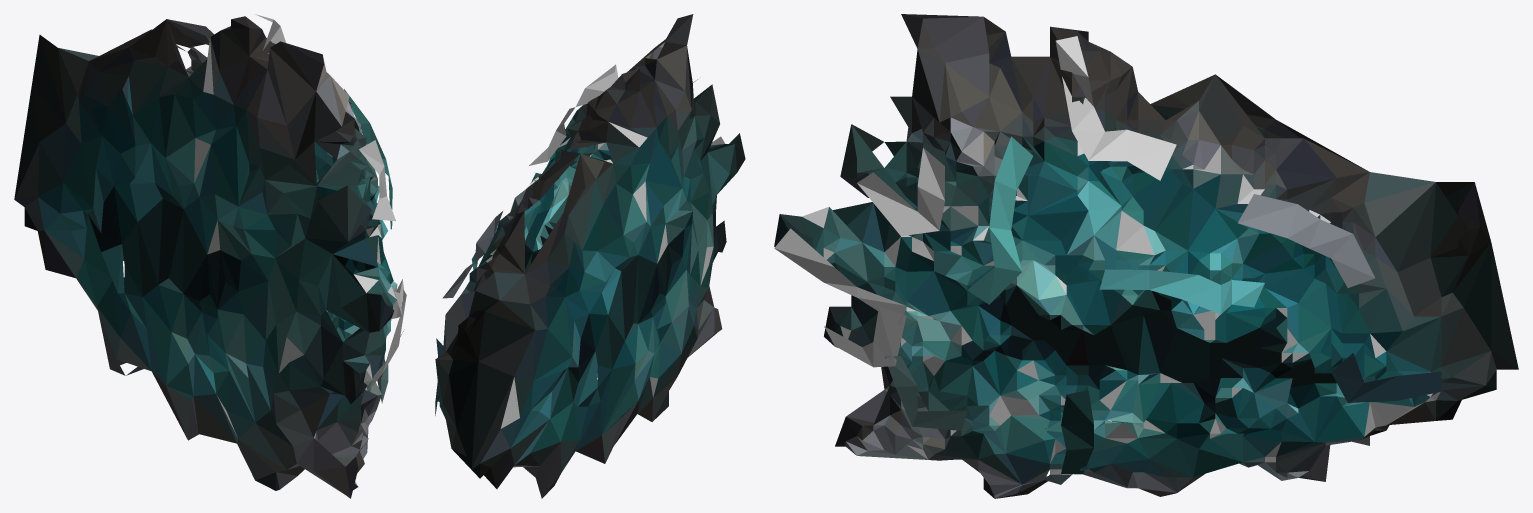
Rendered from B14_2_glacial_crystal_shield.obj.
3 views of the same model, side by side, from view 1: azimuth 30°, elevation 25°; view 2: azimuth 150°, elevation 25°; view 3: azimuth 270°, elevation 25° (orthographic). The views are drawn at different scales.
Parts seen in each view (by area): view 1: B14_2_glacial_crystal_shield; view 2: B14_2_glacial_crystal_shield; view 3: B14_2_glacial_crystal_shield.
Boxes of the visible parts, box(x1,y1,x2,y2) form: B14_2_glacial_crystal_shield: box(14, 14, 406, 498); B14_2_glacial_crystal_shield: box(435, 14, 745, 498); B14_2_glacial_crystal_shield: box(774, 14, 1518, 498).
Size of the model in its own units: 36 by 98 by 135.
